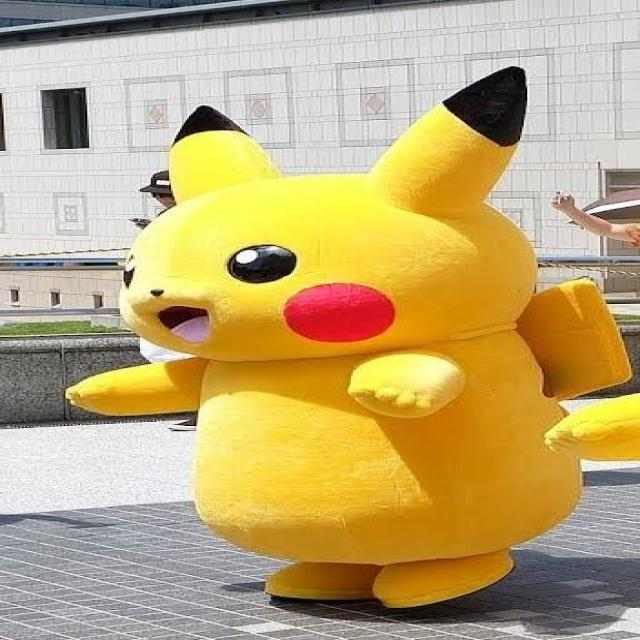pikachu: (64, 66, 635, 610)
